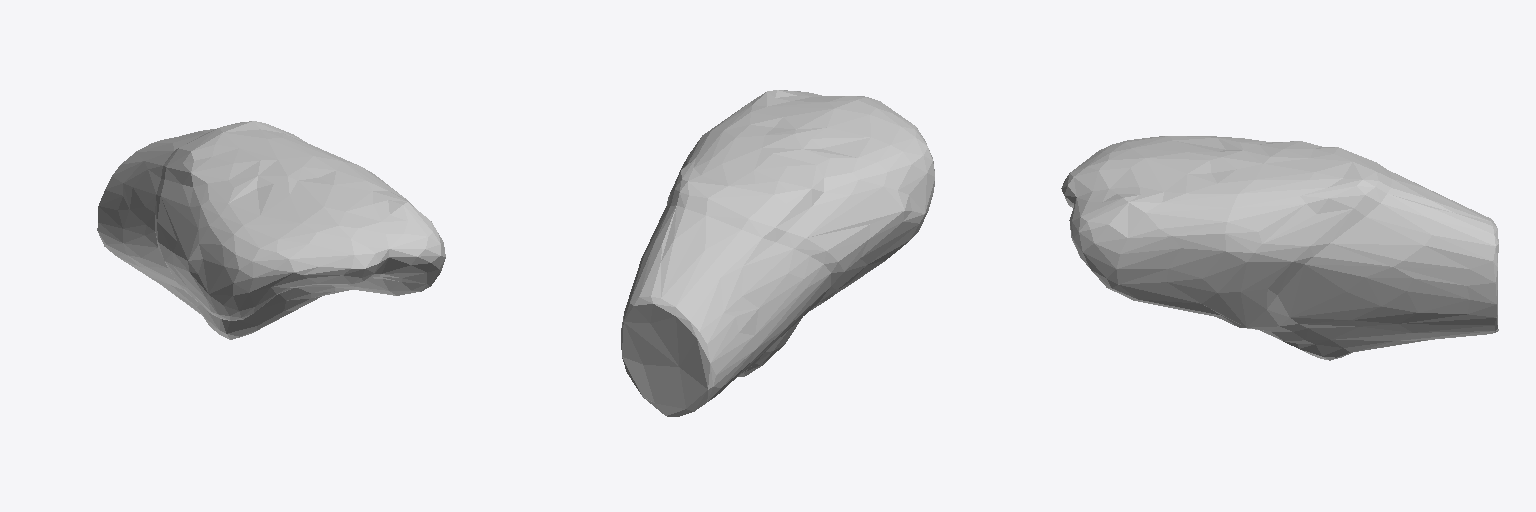
Rendered from local_t32_7780_si.OBJ.
3 renders of one model, left to right at view 1: azimuth 30°, elevation 25°; view 2: azimuth 150°, elevation 25°; view 3: azimuth 270°, elevation 25°, orthographic.
Visible parts, largest first — view 1: Group64525; view 2: Group64525; view 3: Group64525.
Part boxes in pixels (left/top/right/bottom): Group64525: left=97, top=121, right=445, bottom=339; Group64525: left=621, top=90, right=934, bottom=416; Group64525: left=1061, top=136, right=1498, bottom=360.
Bounding box in the file's own units: 6.25 × 5.85 × 11.58.